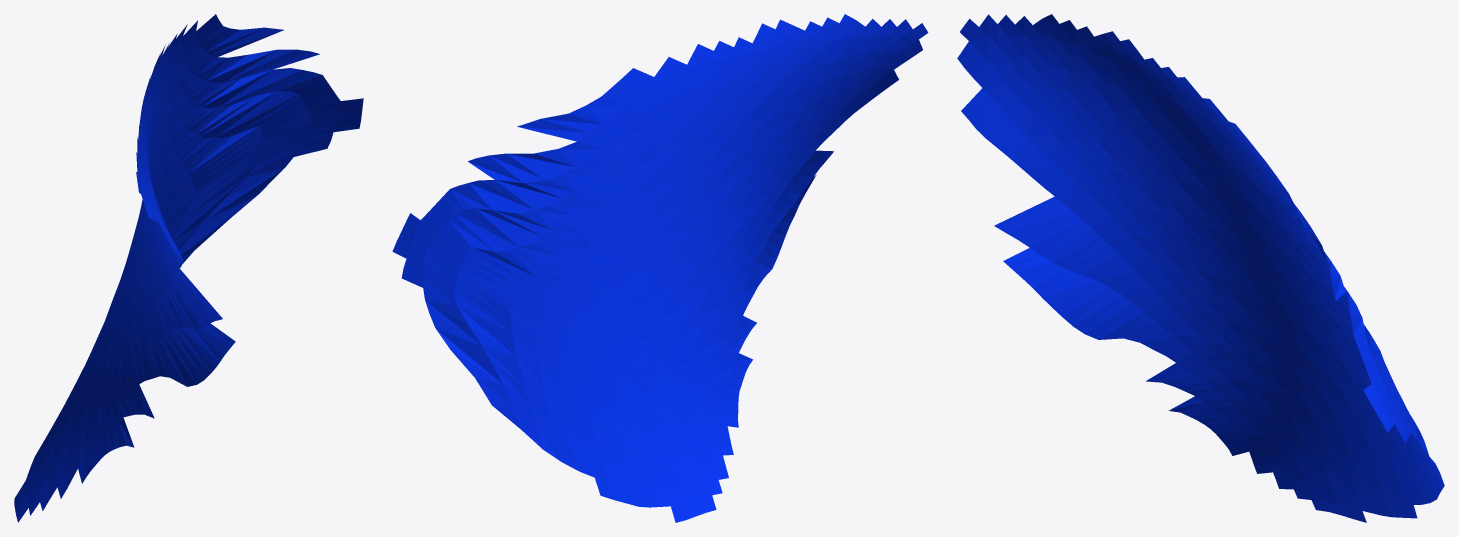
File: Neg_Patch_Remeshed_V.obj
The picture shows the model from 3 angles, left to right: view 1: azimuth 30°, elevation 25°; view 2: azimuth 150°, elevation 25°; view 3: azimuth 270°, elevation 25°; orthographic projection. The views are drawn at different scales.
Bounding box in the file's own units: 0.7712 × 0.8833 × 0.7898.
